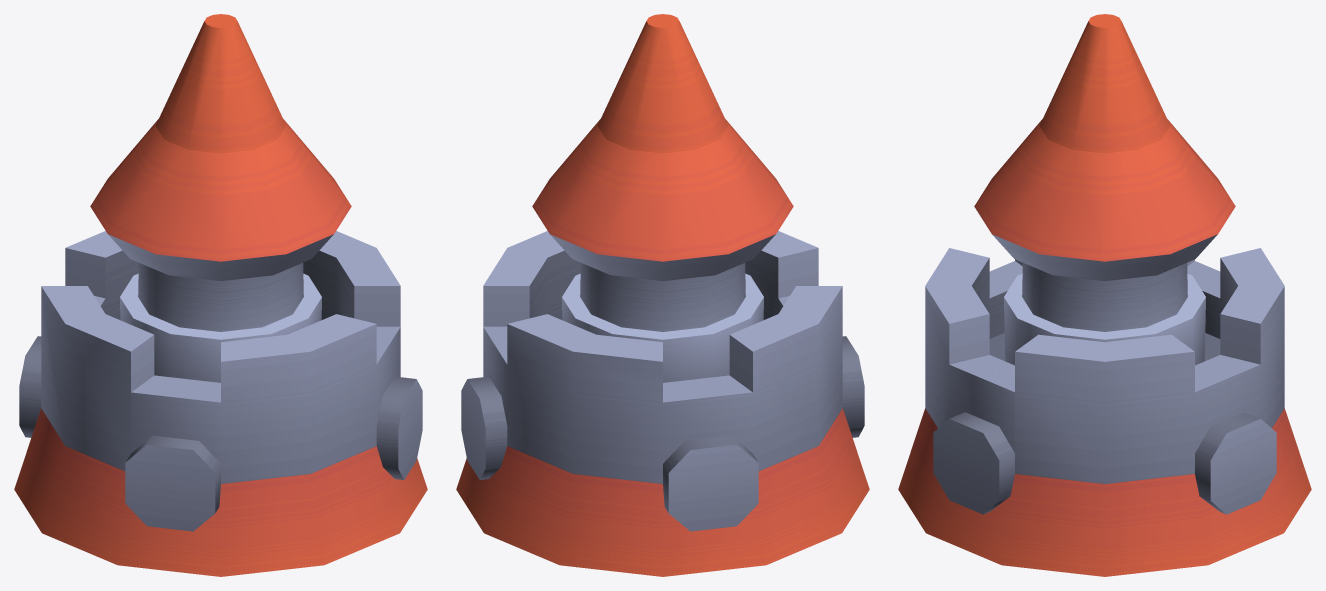
File: tower-defense-kit--tower-round-roof-a.glb
The picture shows the model from 3 angles, left to right: view 1: azimuth 30°, elevation 25°; view 2: azimuth 150°, elevation 25°; view 3: azimuth 270°, elevation 25°; orthographic projection.
Parts seen in each view (by area): view 1: tower-round-roof-a; view 2: tower-round-roof-a; view 3: tower-round-roof-a.
Part boxes in pixels (x1,y1,x2,y2): tower-round-roof-a: (14,14,427,576); tower-round-roof-a: (456,14,869,576); tower-round-roof-a: (898,14,1311,576).
Size of the model in its own units: 0.92 by 1.15 by 0.92.
Materials: 1 (1 with a texture image).
